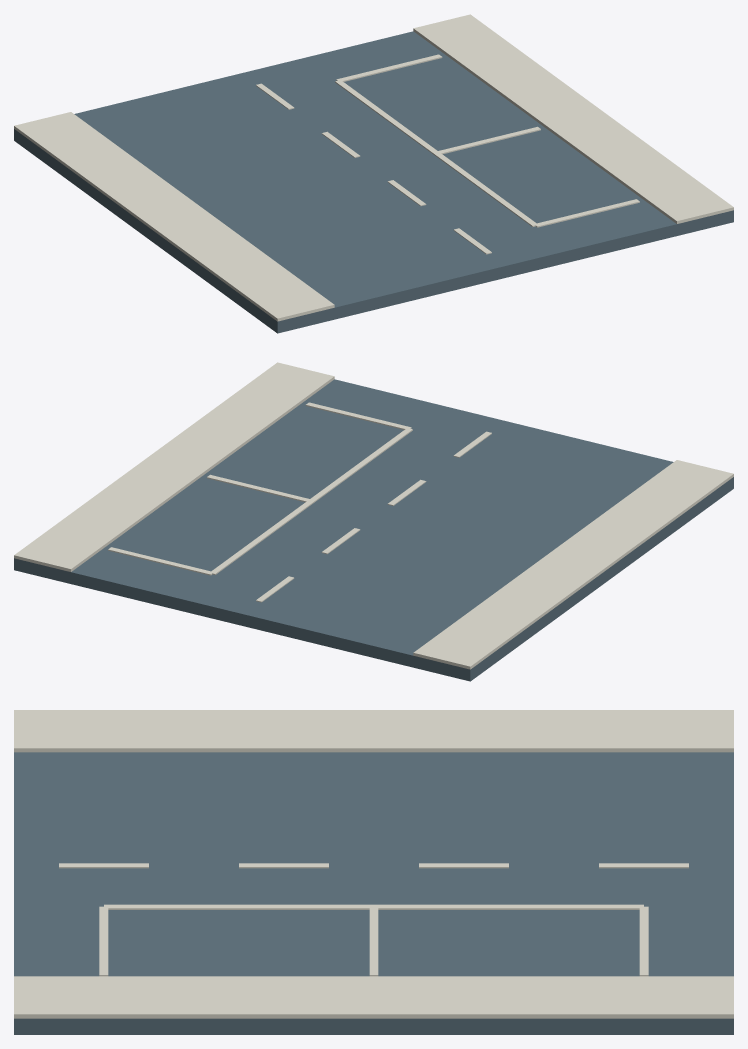
The model's file is voxel-city-districts-road-parking-aed0e6c0__24820.glb.
3 views of the same model, one above another, from view 1: azimuth 30°, elevation 25°; view 2: azimuth 150°, elevation 25°; view 3: azimuth 270°, elevation 25° (orthographic). The views are drawn at different scales.
Visible parts, largest first — view 1: road-parking-dark, road-parking-concrete; view 2: road-parking-dark, road-parking-concrete; view 3: road-parking-dark, road-parking-concrete.
Boxes of the visible parts, left/top/right/bottom form: road-parking-dark: left=14, top=31, right=733, bottom=333; road-parking-concrete: left=14, top=14, right=733, bottom=321; road-parking-dark: left=14, top=379, right=733, bottom=681; road-parking-concrete: left=14, top=362, right=733, bottom=669; road-parking-dark: left=14, top=752, right=733, bottom=1034; road-parking-concrete: left=14, top=710, right=733, bottom=1018.
Size of the model in its own units: 8 by 0.25 by 8.
